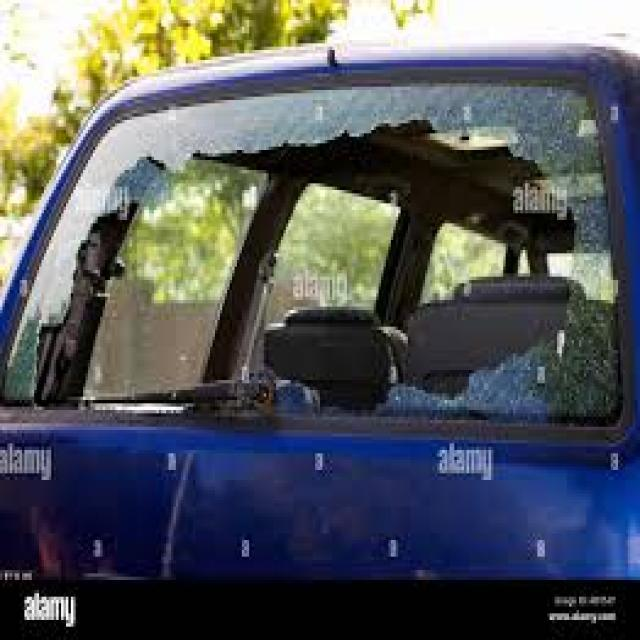damaged-rear-window: (0, 86, 635, 438)
